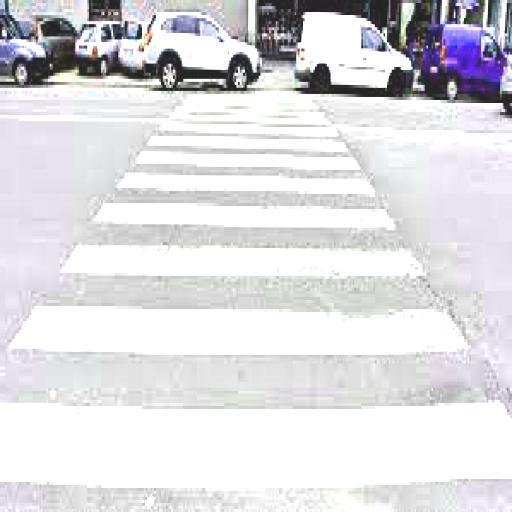crosswalk: (2, 297, 510, 500), (56, 191, 434, 279), (134, 130, 366, 173)
